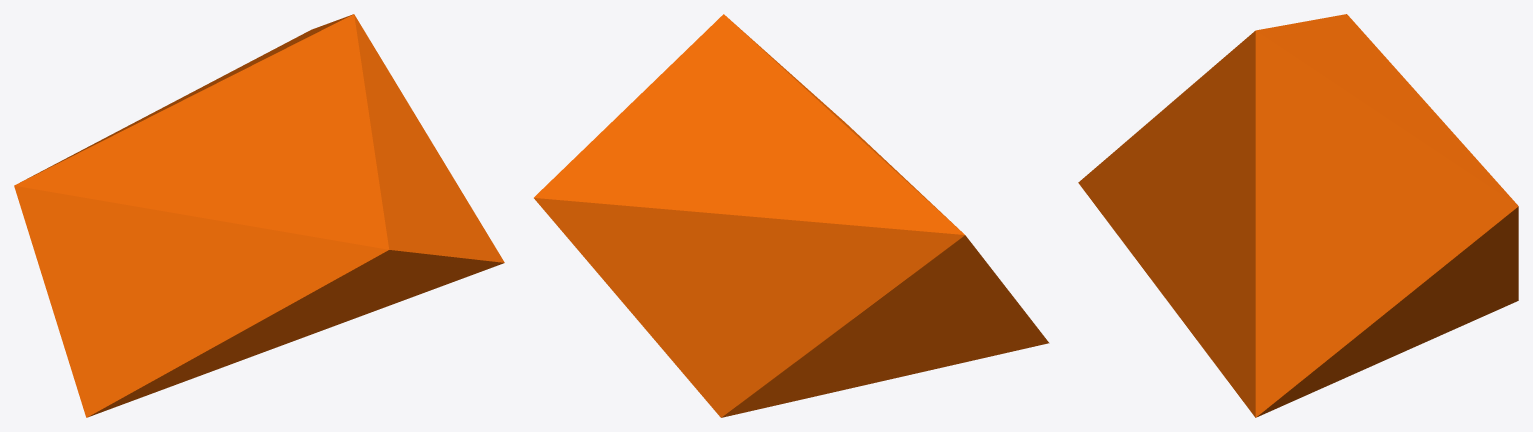
File: leaf.fbx
3 views of the same model, side by side, from view 1: azimuth 30°, elevation 25°; view 2: azimuth 150°, elevation 25°; view 3: azimuth 270°, elevation 25° (orthographic). The views are drawn at different scales.
Visible parts, largest first — view 1: leaf; view 2: leaf; view 3: leaf.
Boxes of the visible parts, bbox=[...] form: leaf: bbox=[14, 14, 504, 417]; leaf: bbox=[534, 14, 1049, 417]; leaf: bbox=[1078, 14, 1518, 417].
Size of the model in its own units: 0.2149 by 0.1387 by 0.1664.
